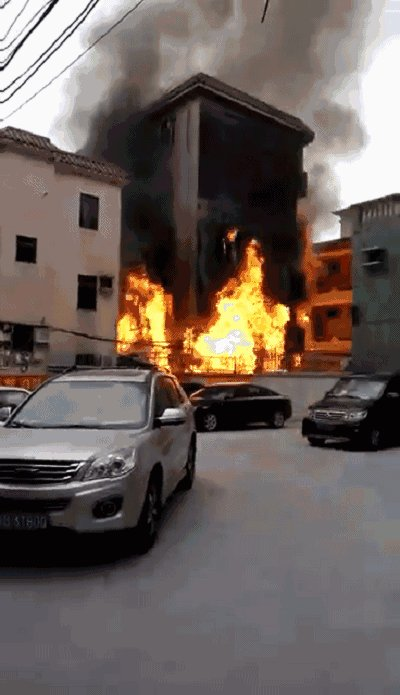fire: (112, 236, 305, 377)
smoke: (109, 13, 369, 164)
